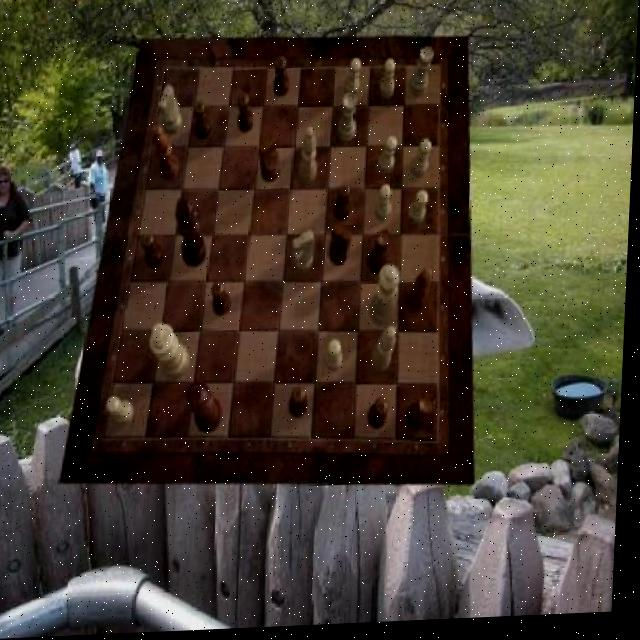bishop: (152, 126, 182, 183), (407, 272, 433, 319)
black-bishop: (176, 197, 211, 269)
black-king: (258, 136, 283, 186), (329, 226, 353, 269)
black-knight: (143, 234, 167, 271), (193, 103, 213, 142), (212, 283, 233, 319), (238, 95, 256, 136), (274, 59, 292, 99), (370, 401, 391, 434), (292, 388, 312, 422), (335, 187, 353, 224)
black-pawn: (188, 382, 226, 436)
black-queen: (409, 396, 439, 435), (370, 232, 394, 278)
black-rook: (373, 330, 399, 377), (300, 129, 320, 187)
white-bishop: (152, 324, 195, 382)
white-king: (158, 85, 185, 137), (294, 233, 318, 276)
white-knight: (108, 398, 137, 428), (412, 143, 433, 182), (408, 194, 430, 229), (379, 140, 399, 178), (344, 61, 362, 102), (379, 63, 396, 104), (375, 188, 393, 226), (327, 343, 346, 376)
white-pawn: (371, 269, 402, 331)
white-queen: (408, 51, 433, 101), (338, 97, 357, 146)
